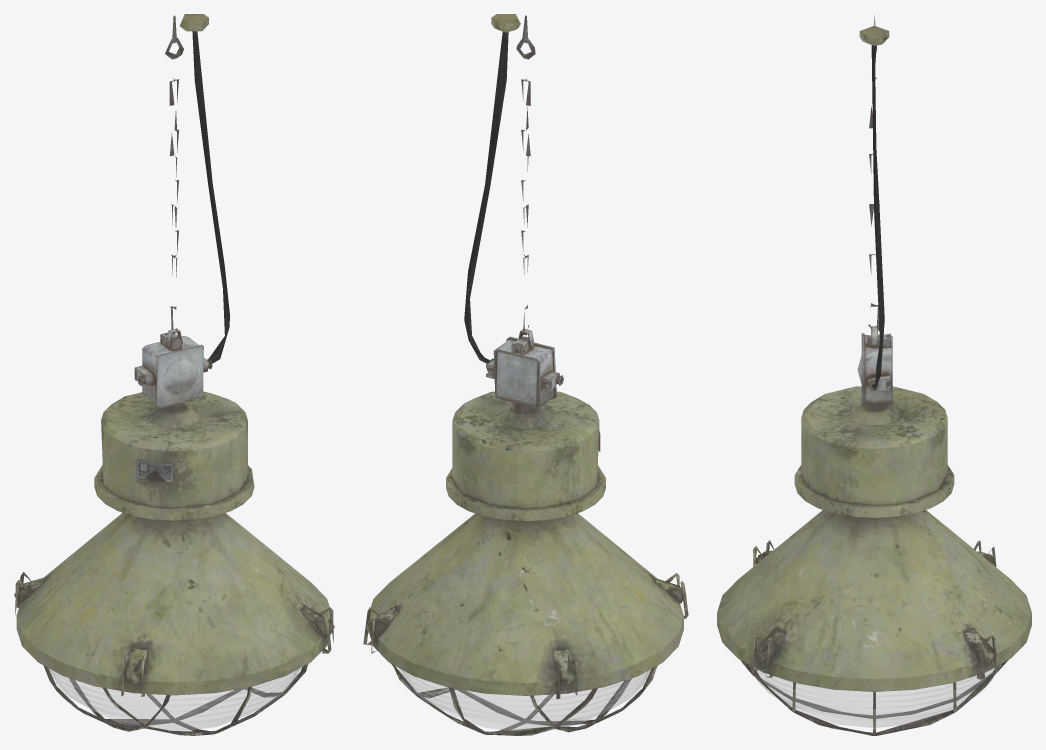
Rendered from hanging_industrial_lamp.glb.
3 renders of one model, left to right at view 1: azimuth 30°, elevation 25°; view 2: azimuth 150°, elevation 25°; view 3: azimuth 270°, elevation 25°, orthographic.
Parts seen in each view (by area): view 1: hanging_industrial_lamp; view 2: hanging_industrial_lamp; view 3: hanging_industrial_lamp.
Boxes of the visible parts, <box> form: hanging_industrial_lamp: <box>14,14,334,735</box>; hanging_industrial_lamp: <box>363,14,688,735</box>; hanging_industrial_lamp: <box>717,15,1031,735</box>.
Size of the model in its own units: 0.5496 by 1.36 by 0.5496.
Materials: 2 (1 with a texture image).
